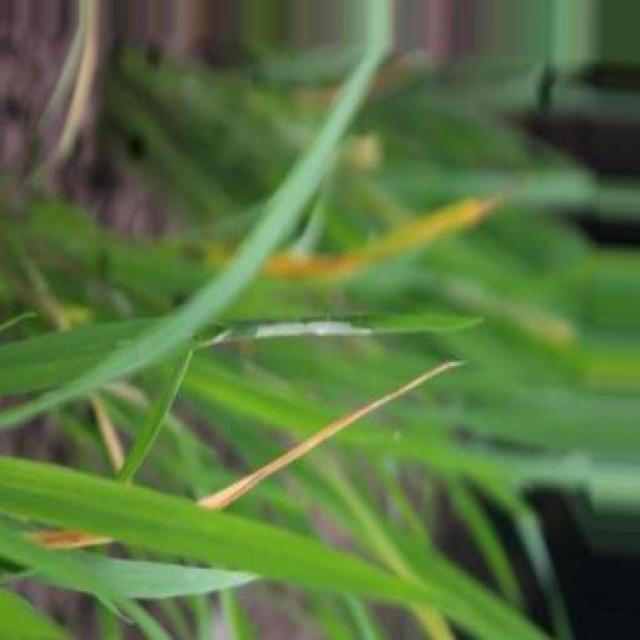Rice Tungro: (198, 362, 461, 509), (265, 198, 505, 279), (31, 530, 112, 549)
